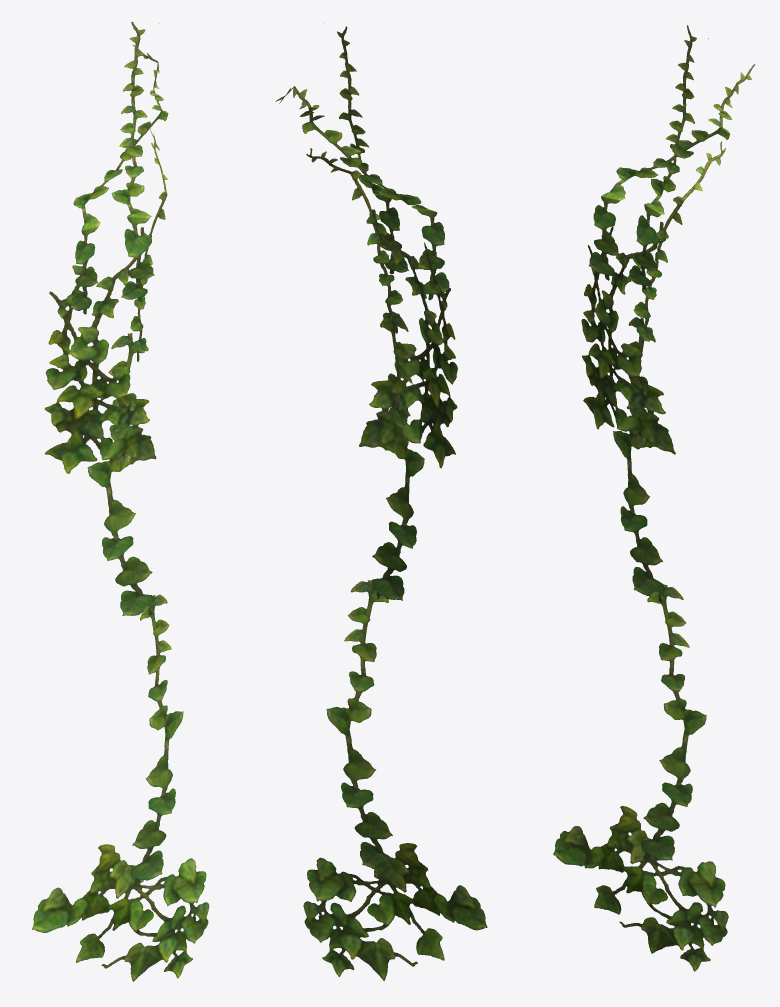
Rendered from S_Tree_Green034_2.FBX.
3 views of the same model, side by side, from view 1: azimuth 30°, elevation 25°; view 2: azimuth 150°, elevation 25°; view 3: azimuth 330°, elevation 25° (orthographic). The views are drawn at different scales.
Visible parts, largest first — view 1: S_Tree_Green034_2; view 2: S_Tree_Green034_2; view 3: S_Tree_Green034_2.
Boxes of the visible parts, left/top/right/bottom form: S_Tree_Green034_2: left=32, top=21, right=209, bottom=981; S_Tree_Green034_2: left=275, top=23, right=487, bottom=980; S_Tree_Green034_2: left=553, top=25, right=754, bottom=971.
Bounding box in the file's own units: 822 × 441 × 3403.
